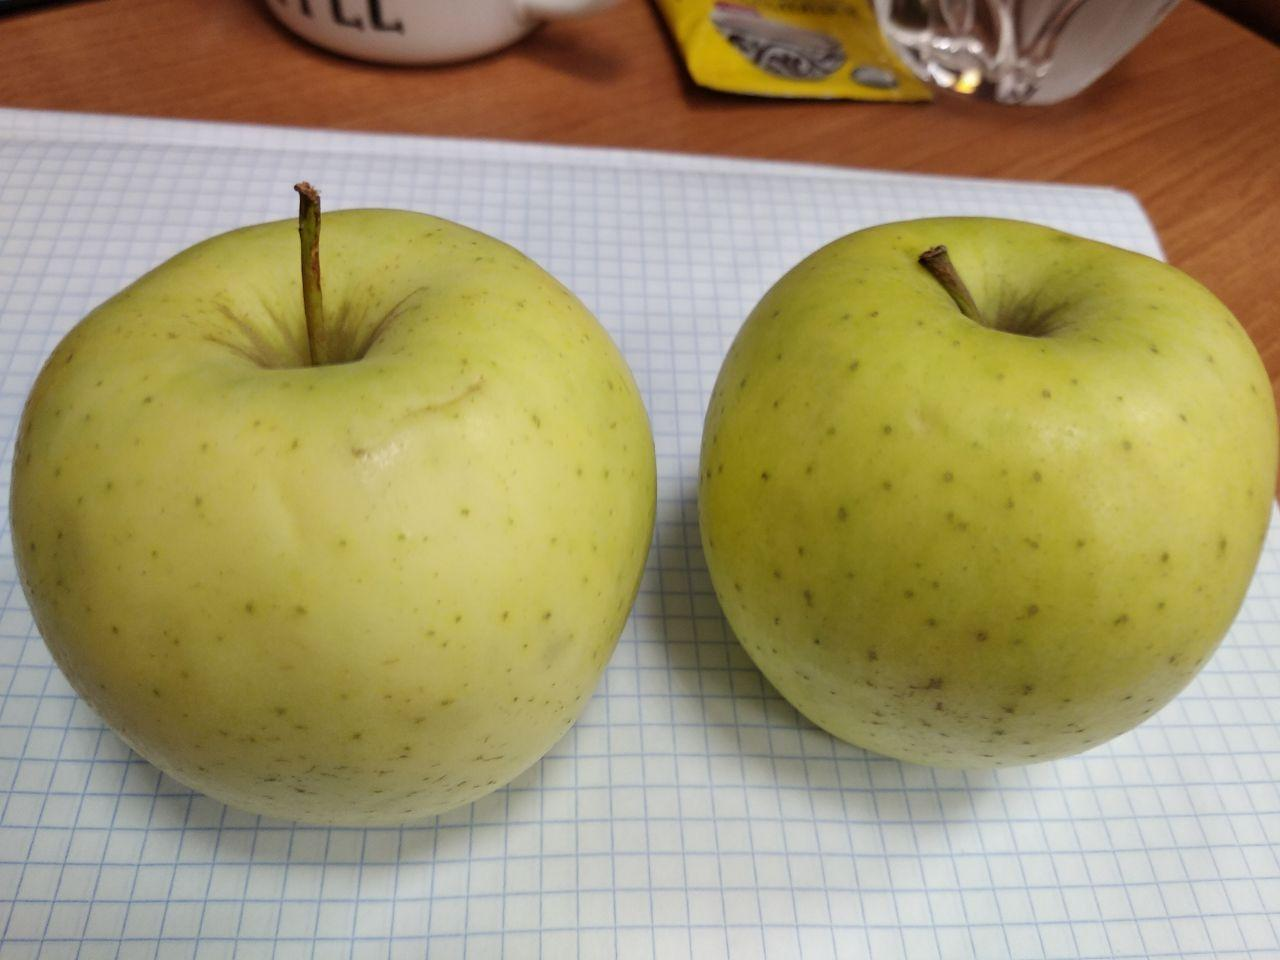Apple: (8, 202, 660, 840), (697, 213, 1279, 778)
